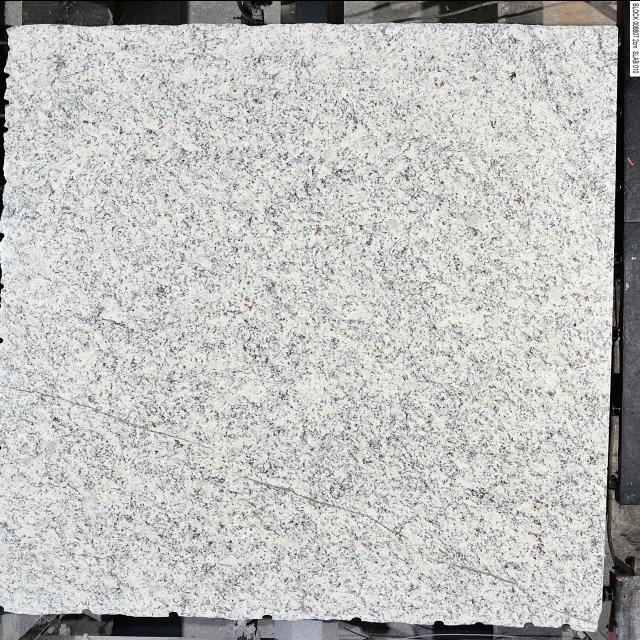chapa: (2, 22, 618, 629)
veio: (520, 618, 540, 630), (258, 612, 276, 622), (164, 608, 180, 618), (346, 614, 364, 622), (558, 622, 574, 630)
